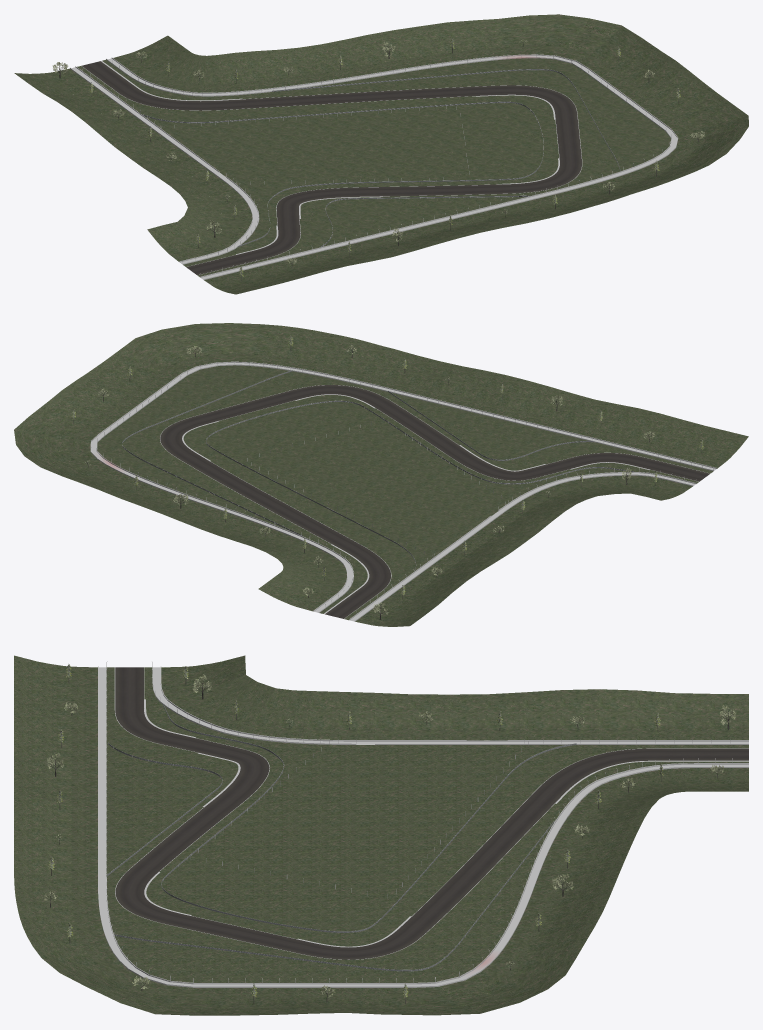
3 renders of one model, top to bottom at view 1: azimuth 30°, elevation 25°; view 2: azimuth 150°, elevation 25°; view 3: azimuth 270°, elevation 25°, orthographic. The views are drawn at different scales.
Visible parts, largest first — view 1: Grass, Road, Track, Wirefence, Trees; view 2: Grass, Road, Track, Wirefence, Trees; view 3: Grass, Road, Track, Trees, Wirefence.
Boxes of the visible parts, x1,y1,x2,y2 form: Grass: [14, 14, 748, 294]; Road: [81, 61, 581, 275]; Track: [70, 54, 678, 279]; Wirefence: [142, 69, 620, 247]; Trees: [52, 38, 704, 280]; Grass: [14, 323, 748, 626]; Road: [160, 385, 709, 618]; Track: [90, 361, 716, 621]; Wirefence: [122, 370, 634, 571]; Trees: [72, 335, 703, 619]; Grass: [14, 655, 748, 1015]; Road: [115, 667, 748, 959]; Track: [98, 661, 748, 987]; Trees: [42, 664, 736, 1003]; Wirefence: [107, 703, 576, 971].
Size of the model in its own units: 51607 by 1921 by 44500.
